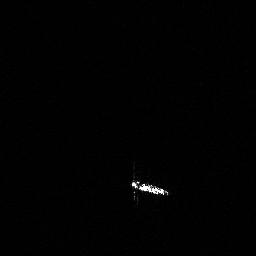ship: (130, 178, 170, 198)
